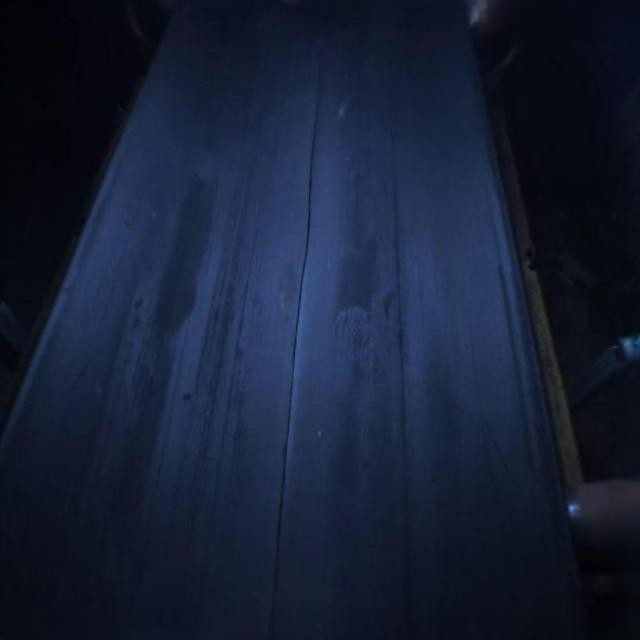Tear: (262, 28, 332, 638)
